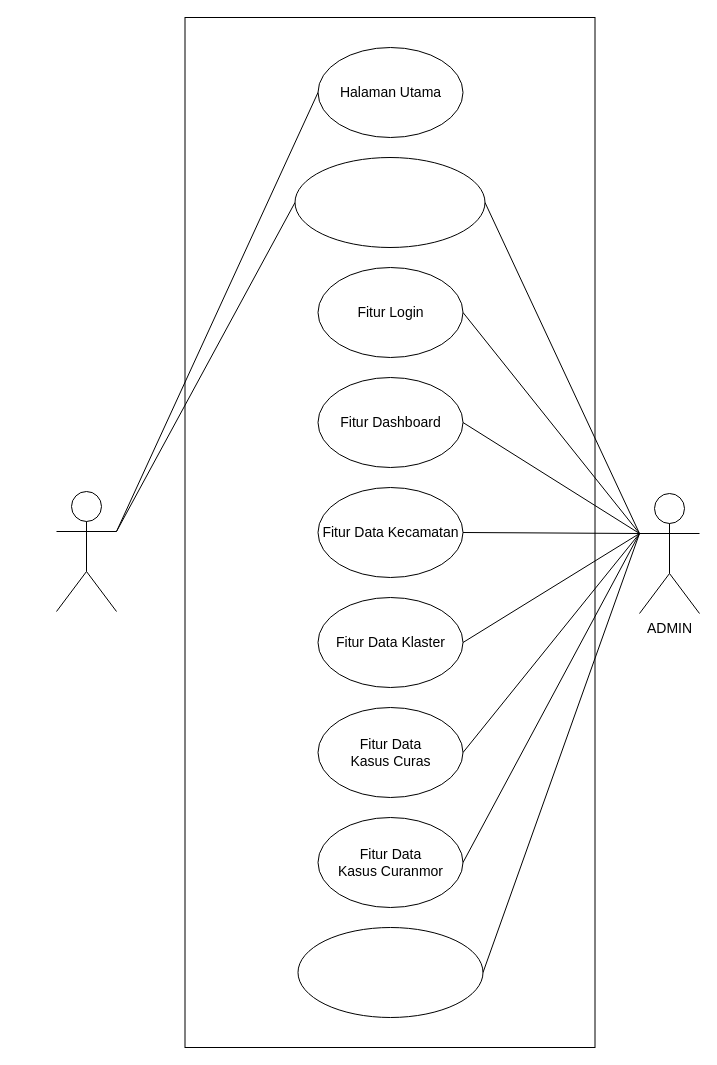
The diagram is 717 pixels wide and 1065 high, and some of its shapes have lost their labels. Each missing label, with the box of its shape:
Fitur Data Detail Perhitungan K-Means: (297, 926, 483, 1018)
Pemetaan Kecamatan Rawan Curas dan Curanmor: (294, 156, 485, 248)
PENGUNJUNG WEB: (56, 490, 116, 612)
